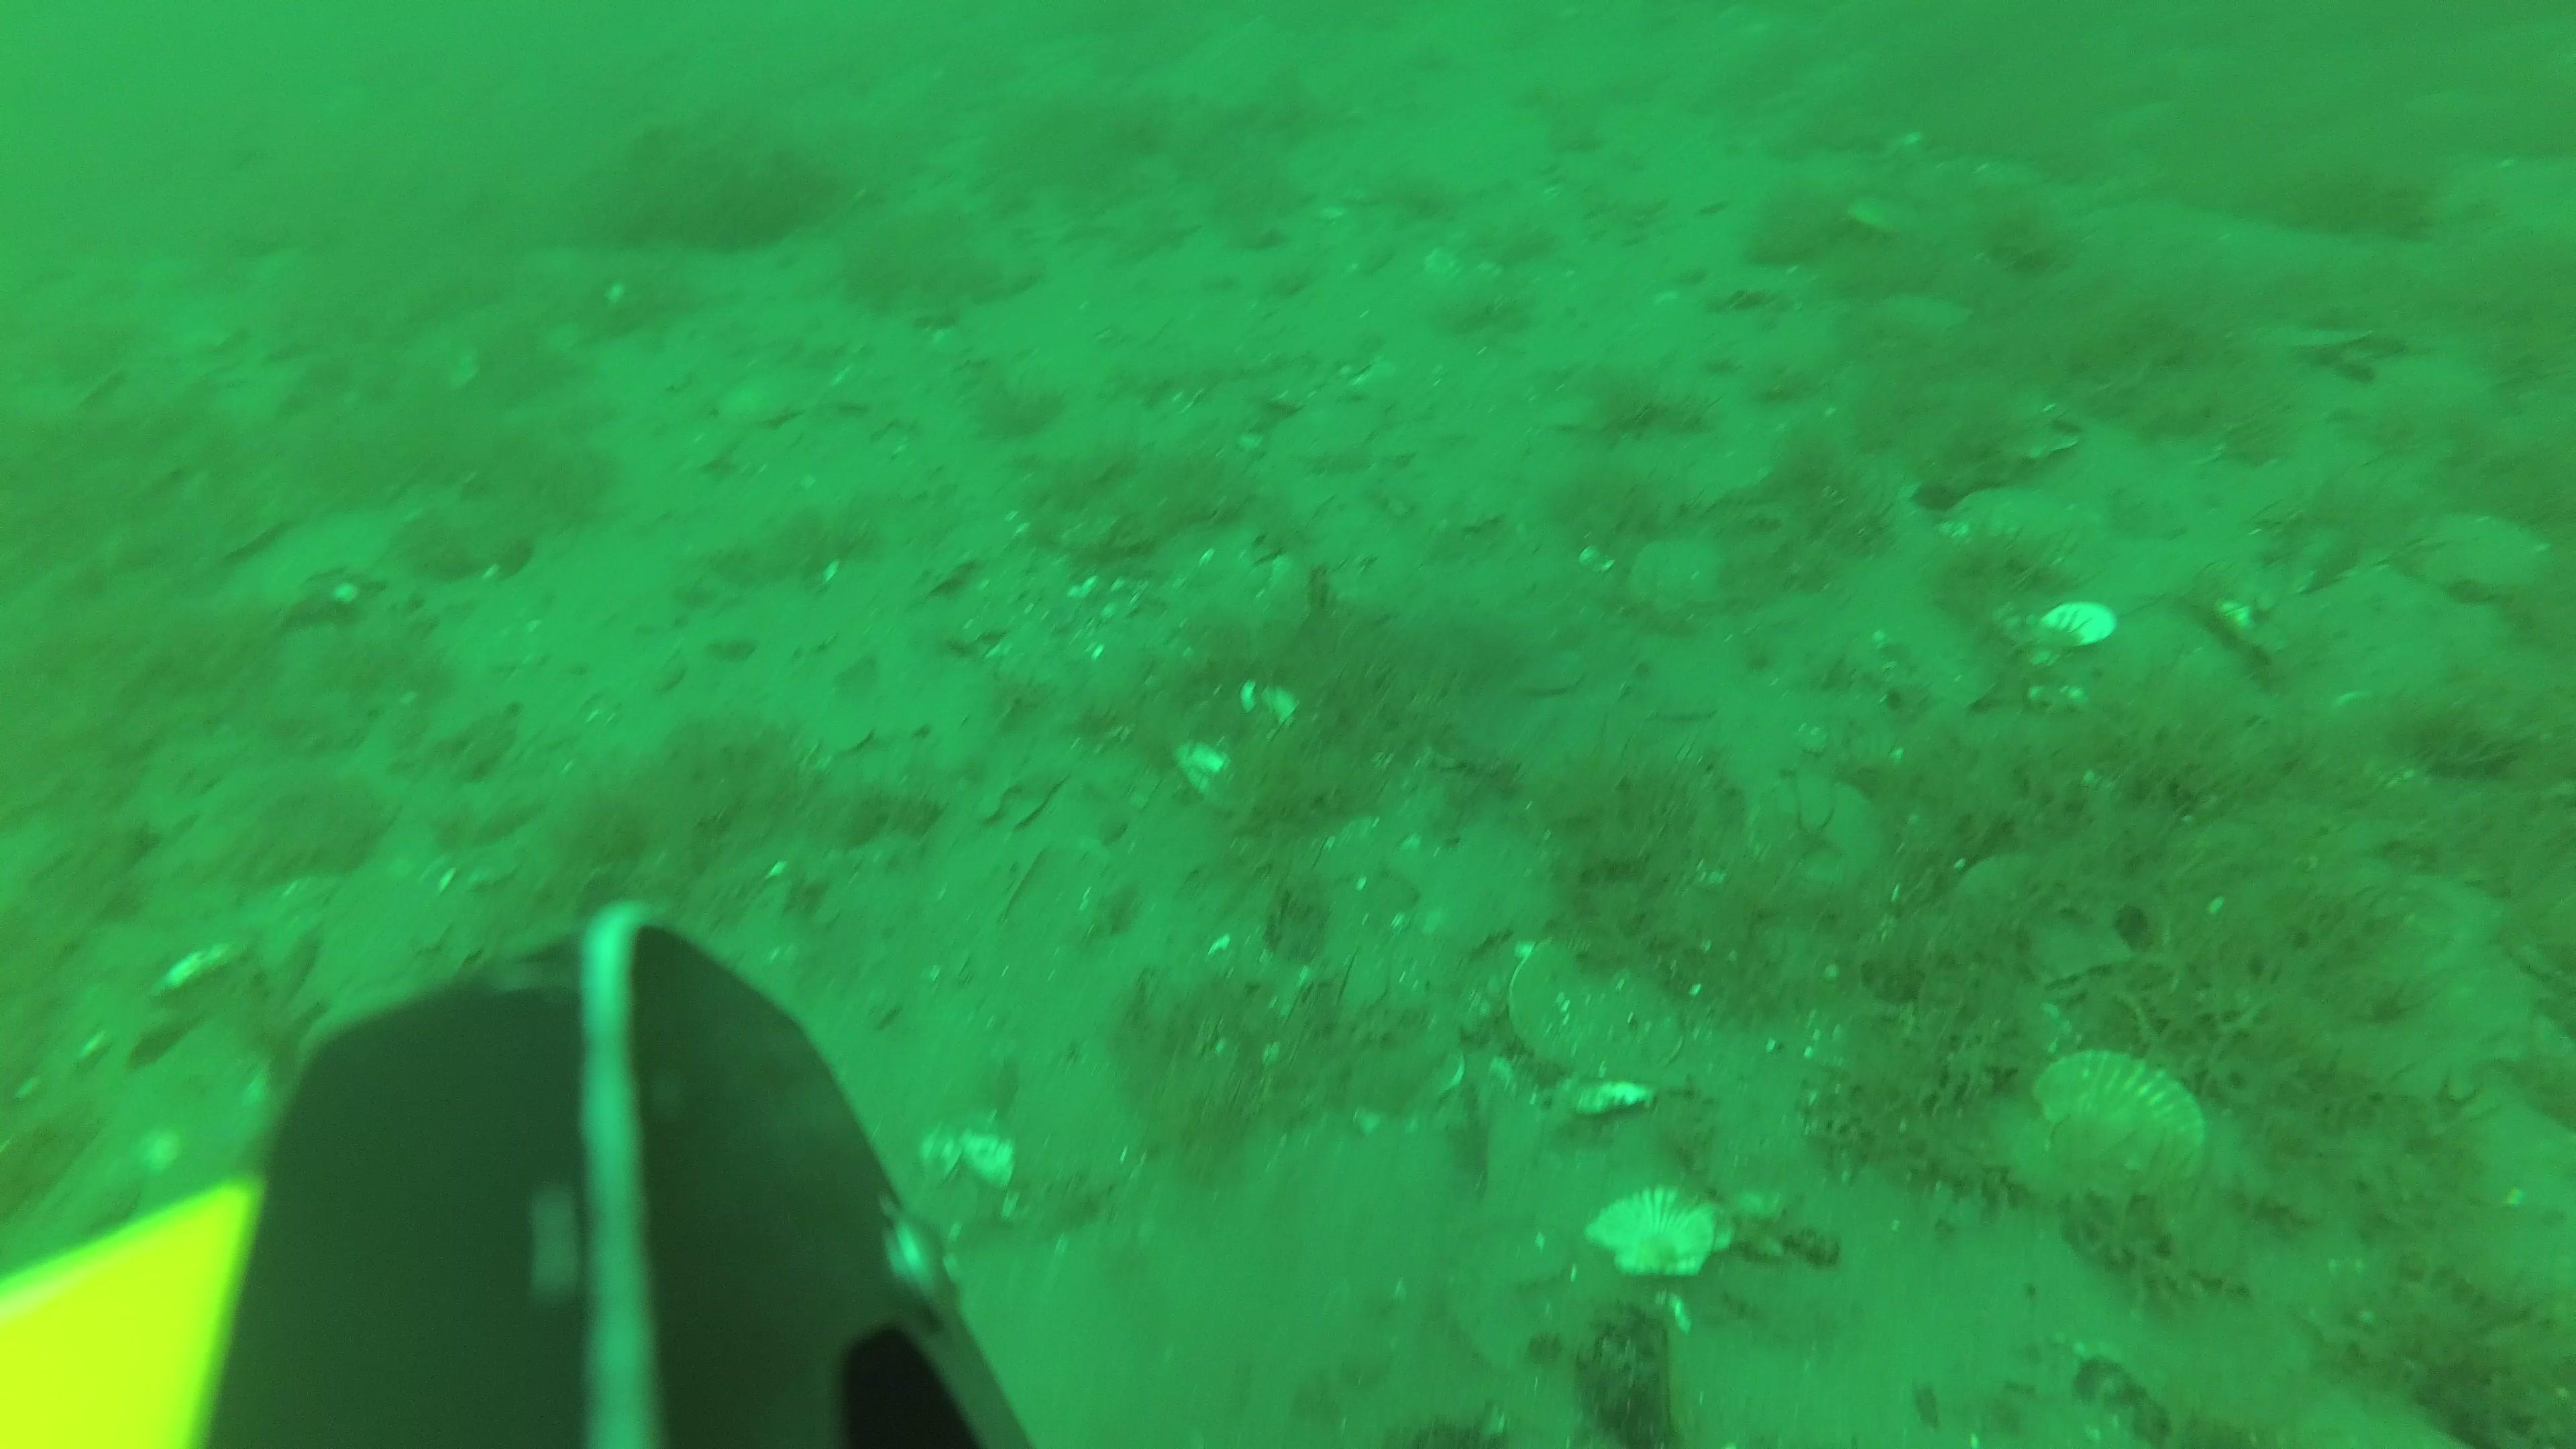scallop: (1500, 924, 1693, 1088), (2031, 1035, 2212, 1201), (1941, 844, 2146, 989), (1576, 1182, 1741, 1283), (2401, 494, 2553, 598), (1621, 527, 1755, 625), (1941, 478, 2070, 570), (1529, 364, 1665, 439), (709, 363, 839, 433), (1272, 398, 1387, 467), (1789, 706, 1907, 771), (2028, 594, 2130, 653), (1507, 644, 1585, 701), (2109, 487, 2181, 547), (1654, 688, 1723, 731)
